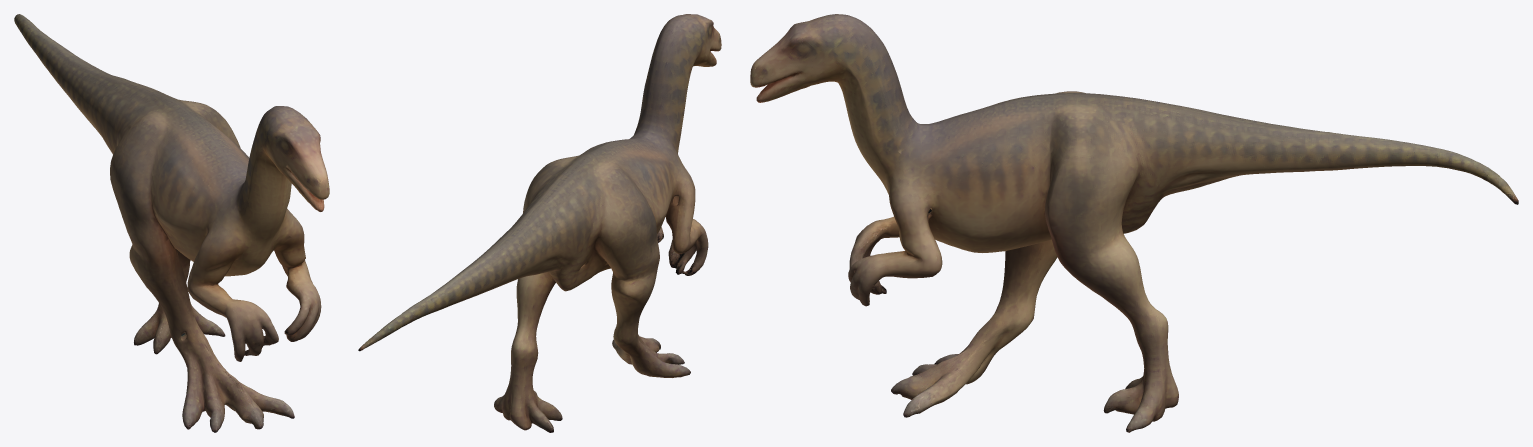
3 renders of one model, left to right at view 1: azimuth 30°, elevation 25°; view 2: azimuth 150°, elevation 25°; view 3: azimuth 270°, elevation 25°, orthographic. The views are drawn at different scales.
Parts seen in each view (by area): view 1: world; view 2: world; view 3: world.
Boxes of the visible parts, x1,y1,x2,y2 form: world: [14, 14, 329, 432]; world: [358, 14, 721, 432]; world: [750, 14, 1518, 432].
Size of the model in its own units: 1.01 by 2.47 by 4.5.
Materials: 1 (1 with a texture image).
